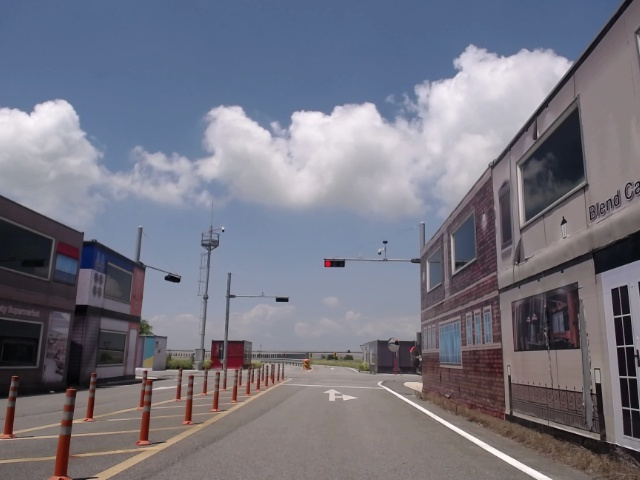red_3: (322, 258, 346, 268)
